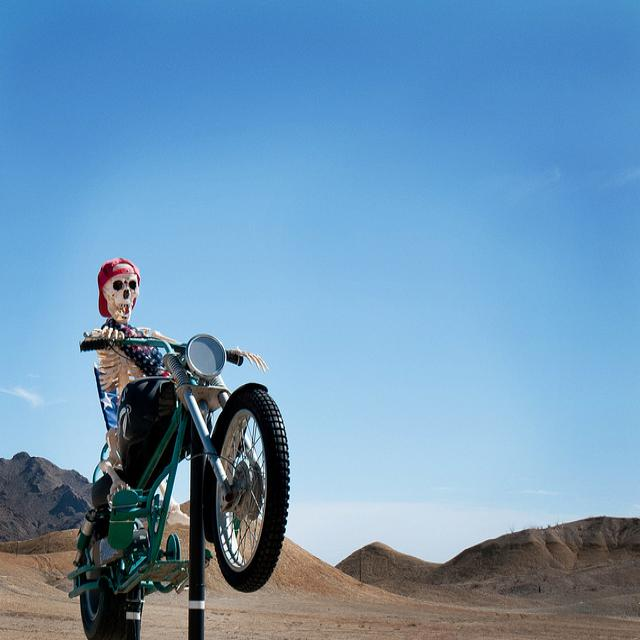motor: (69, 331, 297, 630)
